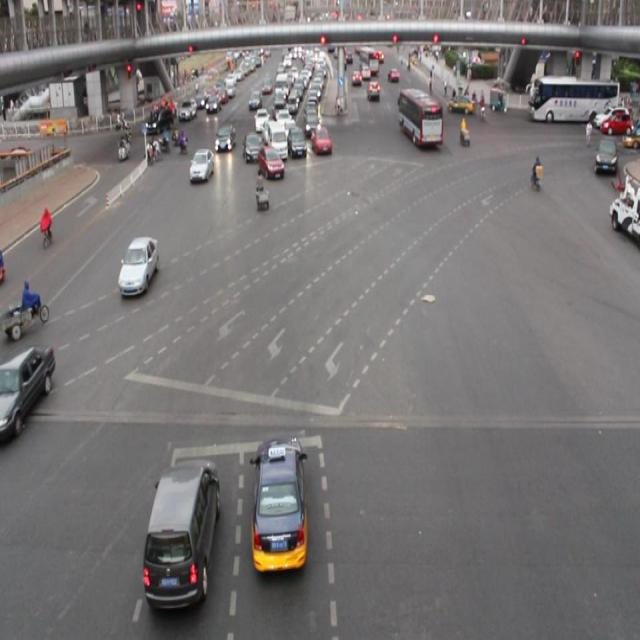car: (251, 434, 309, 573), (1, 345, 55, 441), (118, 235, 158, 295), (189, 147, 213, 184), (258, 145, 283, 180), (214, 122, 237, 157), (242, 130, 263, 163), (311, 124, 332, 155), (287, 128, 307, 160), (253, 107, 270, 136)
truck: (145, 458, 220, 612), (263, 120, 287, 159)
van: (398, 88, 442, 144)
